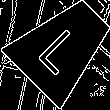L_NE: (35, 18, 92, 76)
